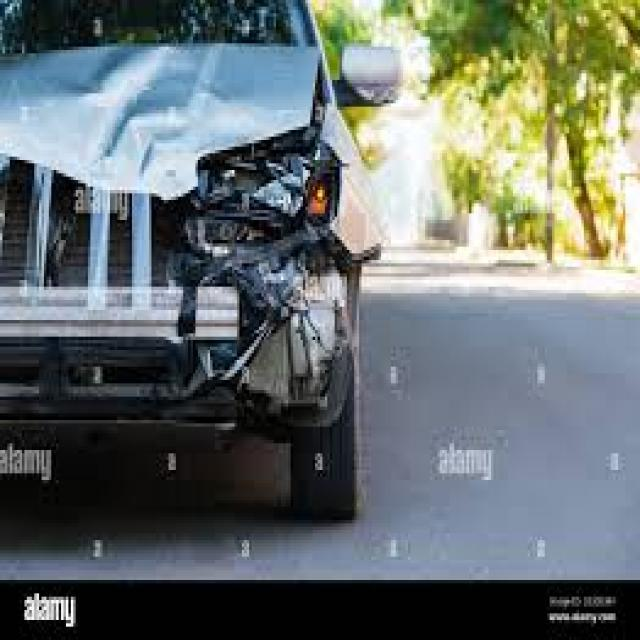damaged-hood: (0, 44, 312, 196)
